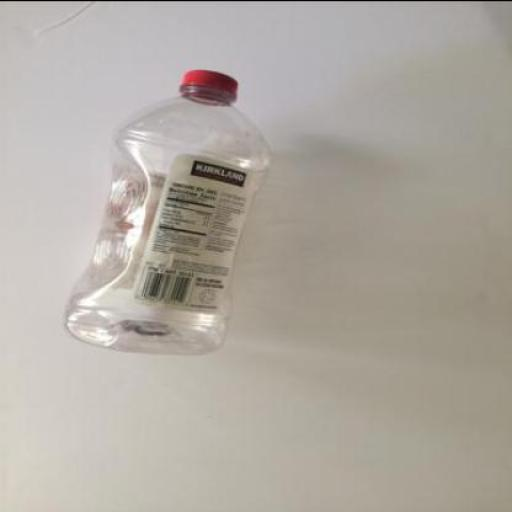plastic: (66, 68, 272, 353), (180, 67, 240, 102)
